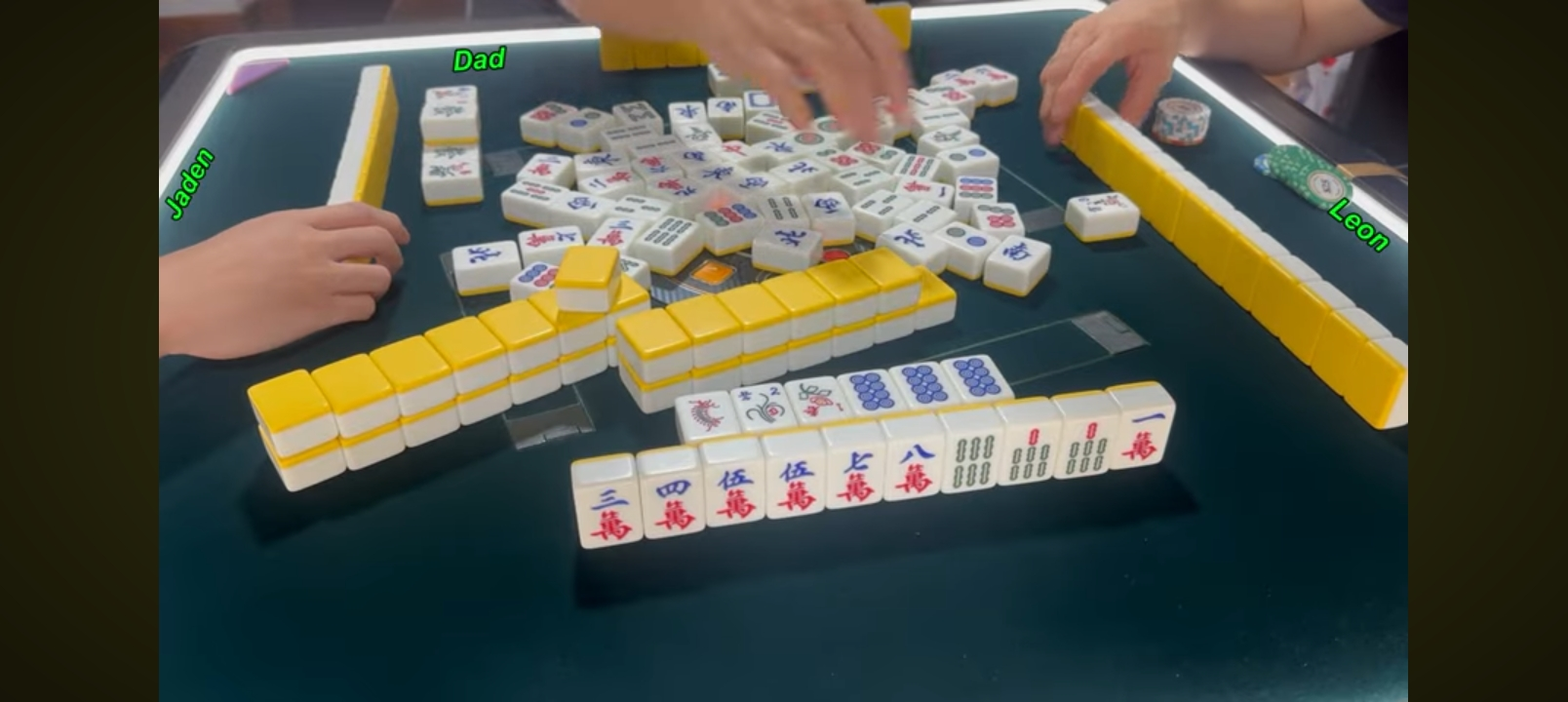TILE: (577, 481, 642, 547), (640, 475, 705, 536), (704, 463, 766, 526), (768, 457, 827, 518), (1117, 409, 1176, 468), (829, 448, 887, 507), (1006, 426, 1062, 485), (1061, 418, 1120, 474), (889, 440, 944, 500), (944, 433, 1000, 491), (733, 382, 794, 430), (677, 390, 737, 438), (950, 357, 1010, 399), (790, 376, 846, 420), (896, 362, 952, 406), (843, 370, 899, 413)
